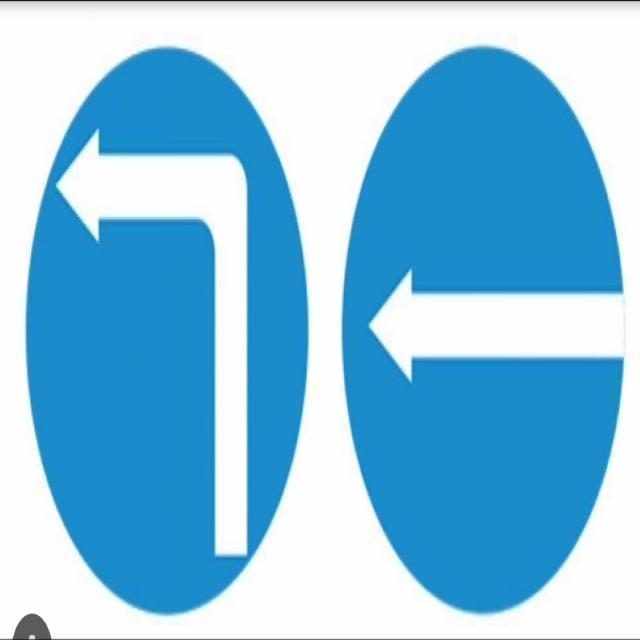301c-cac-xe-chi-duoc-re-trai: (338, 42, 626, 614), (24, 42, 308, 620)
